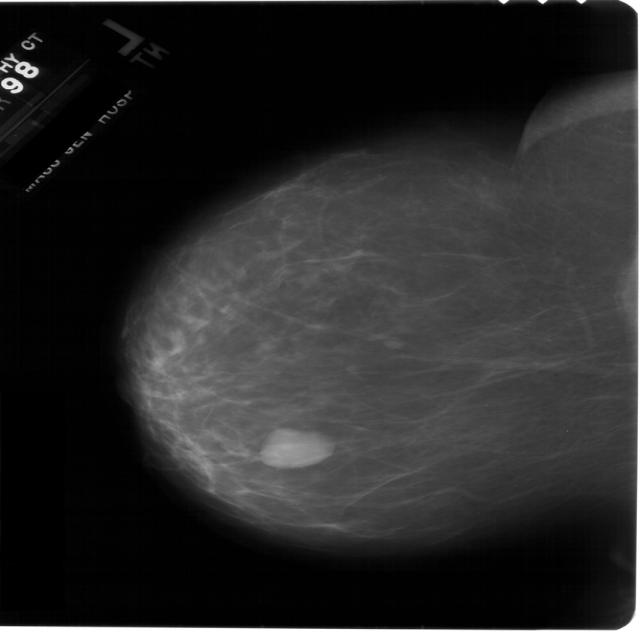tumour: (258, 426, 334, 468)
